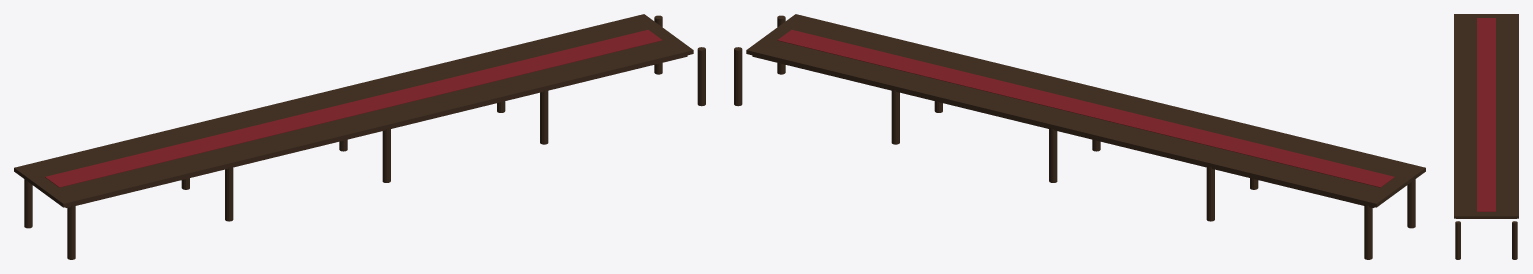
The model's file is SM_Mob_Yemek_Masasi.fbx.
The picture shows the model from 3 angles, left to right: view 1: azimuth 30°, elevation 25°; view 2: azimuth 150°, elevation 25°; view 3: azimuth 270°, elevation 25°; orthographic projection. The views are drawn at different scales.
Parts seen in each view (by area): view 1: Mob_Yemek_Masasi; view 2: Mob_Yemek_Masasi; view 3: Mob_Yemek_Masasi.
Part boxes in pixels (x1,y1,x2,y2): Mob_Yemek_Masasi: (14,14,705,259); Mob_Yemek_Masasi: (734,14,1425,259); Mob_Yemek_Masasi: (1454,14,1518,259).
Size of the model in its own units: 1433 by 127 by 190.
